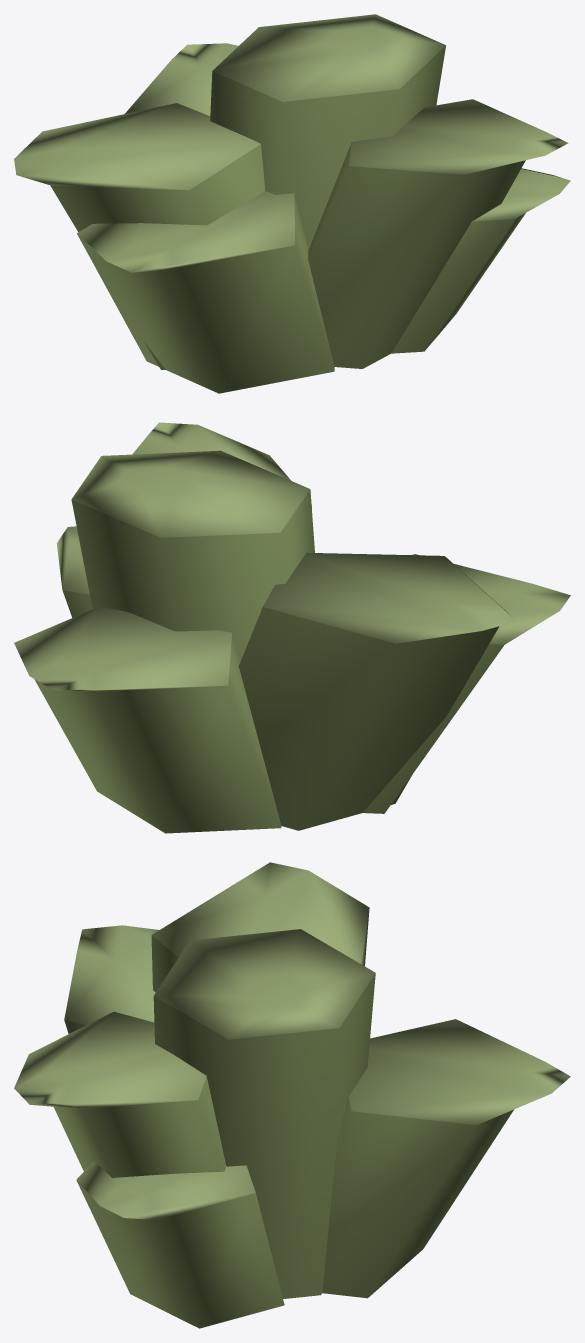
Rendered from gf_clump_02.glb.
3 renders of one model, top to bottom at view 1: azimuth 30°, elevation 25°; view 2: azimuth 150°, elevation 25°; view 3: azimuth 270°, elevation 25°, orthographic. The views are drawn at different scales.
Parts seen in each view (by area): view 1: gf_clump_02; view 2: gf_clump_02; view 3: gf_clump_02.
Part boxes in pixels (x1,y1,x2,y2): gf_clump_02: [14, 14, 570, 393]; gf_clump_02: [14, 422, 570, 833]; gf_clump_02: [14, 862, 570, 1328].
Size of the model in its own units: 0.328 by 0.17 by 0.2875.
